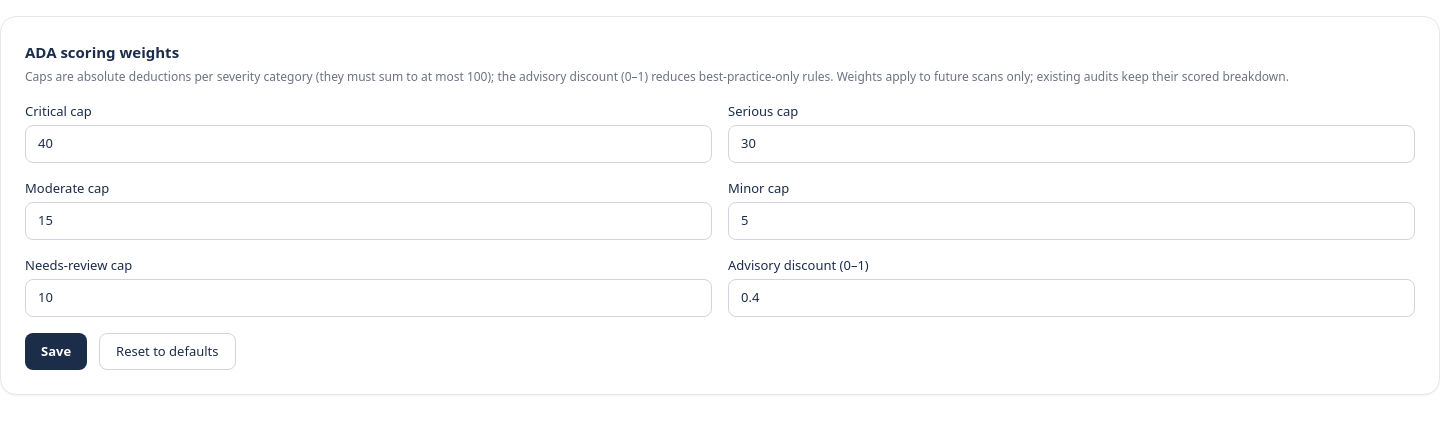
Test: AdaScoringWeightsCard › Save PUTs the whole weights object and shows Saved.
Expected: the text "Critical cap" is shown, [25,102,712,162]
Click the button "Save".
click(56, 351)  # box [25,332,87,370]
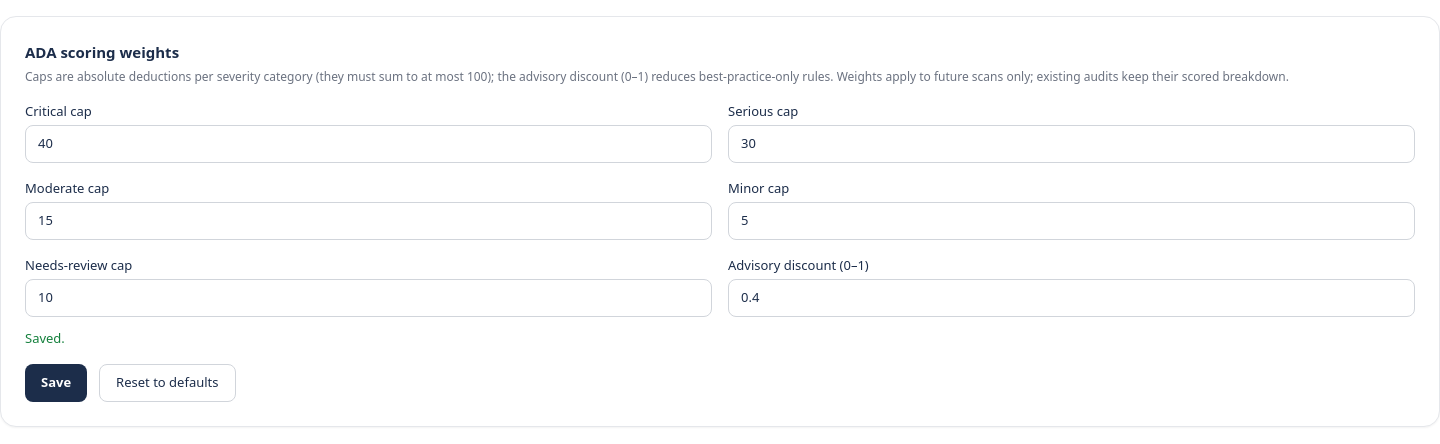
Now the text "Saved." is shown, box [25,328,65,346]
